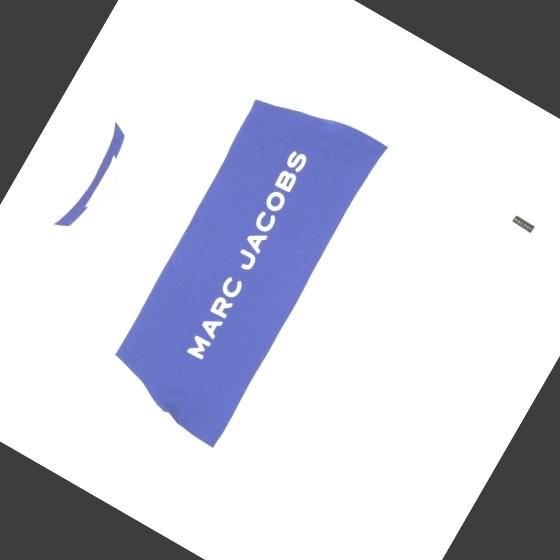MARC-JACOBS: (179, 148, 316, 360)
